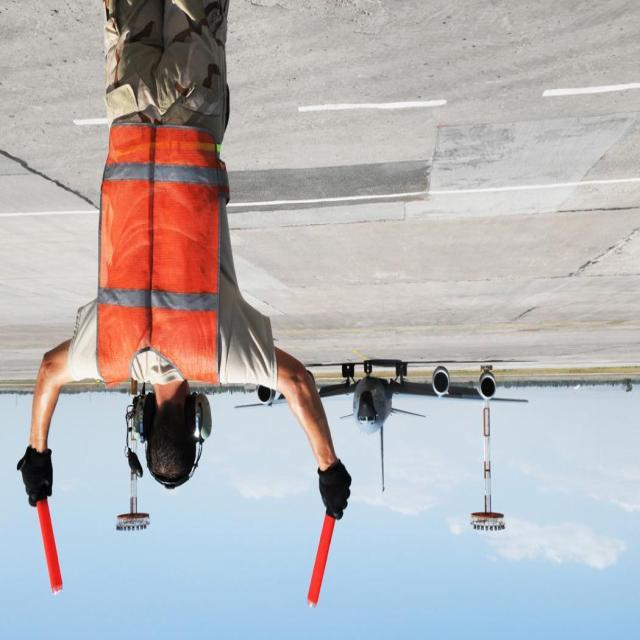jacket: (87, 104, 233, 406)
